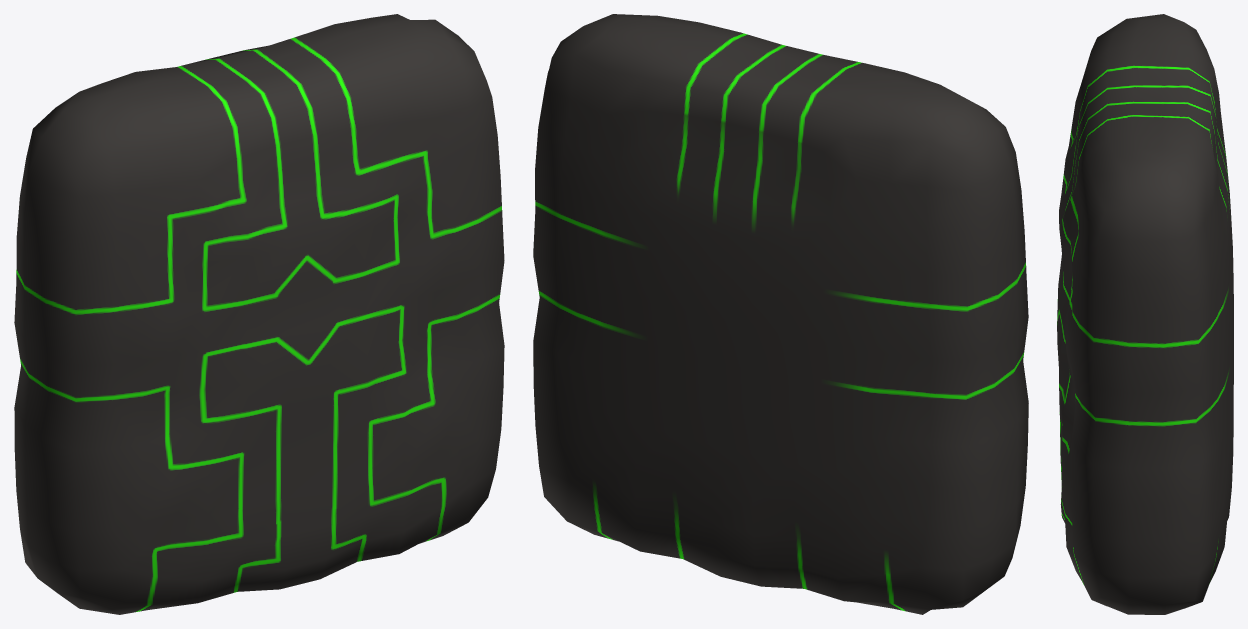
The model's file is Green_Target.fbx.
The picture shows the model from 3 angles, left to right: view 1: azimuth 30°, elevation 25°; view 2: azimuth 150°, elevation 25°; view 3: azimuth 270°, elevation 25°; orthographic projection. The views are drawn at different scales.
Parts seen in each view (by area): view 1: Green_Target.LP; view 2: Green_Target.LP; view 3: Green_Target.LP.
Boxes of the visible parts, x1,y1,x2,y2 form: Green_Target.LP: [14, 14, 504, 614]; Green_Target.LP: [533, 14, 1028, 614]; Green_Target.LP: [1057, 14, 1233, 614].
Size of the model in its own units: 104 by 110 by 39.05.
